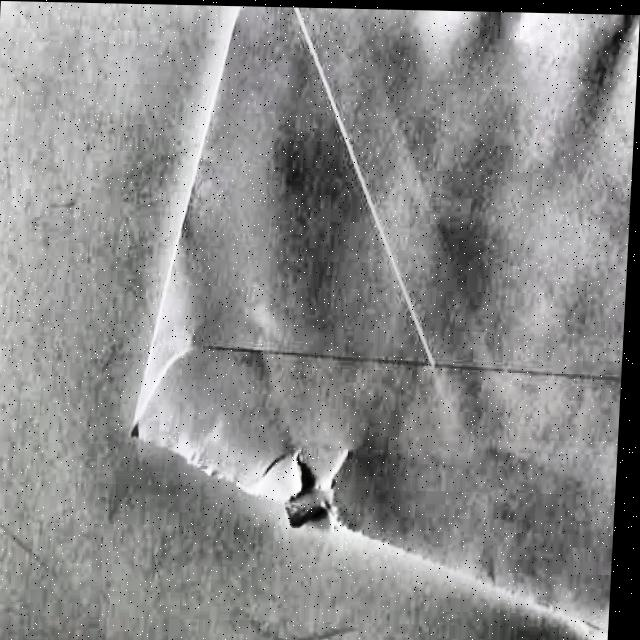paper: (114, 3, 640, 640)
